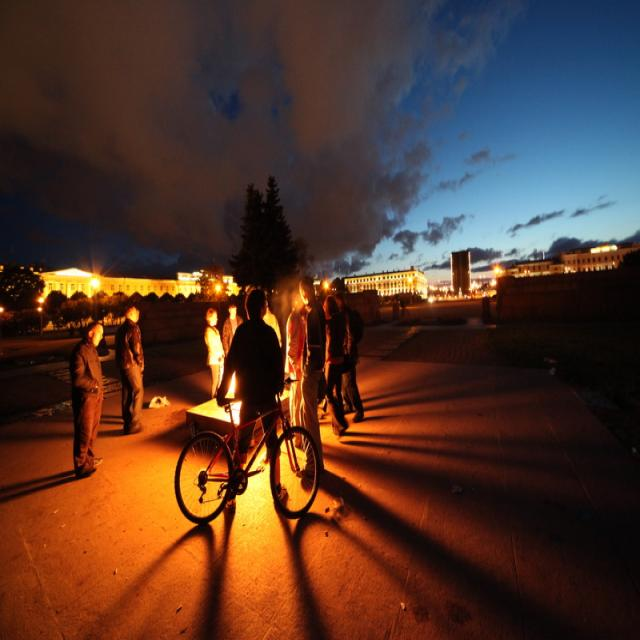Bicycle: (140, 396, 373, 601)
People: (234, 283, 276, 433), (68, 304, 104, 473), (325, 263, 361, 426), (295, 252, 325, 446), (121, 289, 153, 449), (199, 289, 231, 395)
